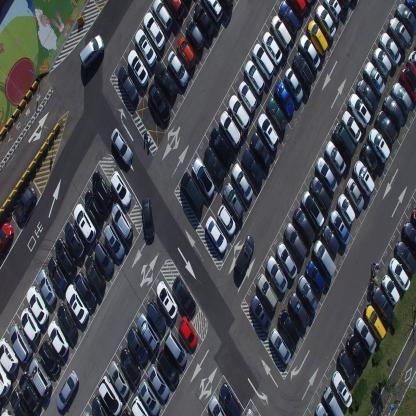car: (98, 374, 123, 415), (332, 121, 357, 162), (56, 368, 79, 412), (172, 274, 196, 316), (191, 156, 215, 198), (65, 282, 89, 324), (18, 370, 42, 412), (29, 356, 52, 399), (147, 82, 171, 123), (9, 322, 33, 363), (284, 221, 308, 262), (300, 189, 324, 230), (312, 239, 337, 278), (233, 235, 256, 277), (73, 202, 96, 244), (26, 284, 49, 326), (180, 170, 204, 210), (116, 64, 139, 105), (137, 311, 160, 352), (134, 27, 157, 68), (154, 61, 177, 102), (79, 33, 104, 70), (209, 127, 231, 169), (222, 182, 245, 222), (54, 236, 77, 276), (56, 302, 79, 342), (143, 11, 166, 51), (13, 184, 36, 224), (251, 42, 275, 80), (348, 92, 372, 130), (231, 163, 253, 204), (250, 294, 272, 335), (74, 270, 96, 311), (298, 33, 321, 72), (364, 303, 387, 342), (219, 110, 241, 150), (242, 148, 264, 188), (276, 240, 298, 280), (205, 214, 227, 254), (91, 169, 113, 209), (103, 221, 125, 261), (292, 50, 314, 90), (266, 255, 288, 295), (269, 327, 292, 365), (164, 328, 187, 366), (110, 203, 133, 241), (147, 364, 170, 402), (157, 348, 180, 386), (227, 94, 250, 132), (292, 207, 315, 245), (356, 77, 379, 115), (37, 339, 61, 375), (388, 16, 412, 52), (127, 47, 149, 86), (156, 280, 178, 319), (64, 221, 86, 260), (127, 325, 149, 364), (257, 111, 279, 150), (297, 274, 319, 313), (315, 156, 338, 193), (306, 18, 327, 58), (250, 132, 272, 170), (278, 308, 300, 346), (110, 170, 132, 208), (47, 256, 69, 294), (47, 319, 69, 357), (203, 144, 225, 182), (192, 2, 214, 40), (138, 378, 160, 416), (256, 272, 278, 310), (310, 175, 332, 213), (372, 286, 394, 324), (354, 316, 376, 354), (108, 359, 129, 398), (288, 292, 310, 329), (110, 127, 132, 164), (270, 14, 292, 51), (368, 127, 390, 164), (379, 31, 401, 68), (244, 58, 265, 96), (274, 79, 295, 117), (283, 66, 304, 104), (315, 3, 336, 41), (376, 110, 398, 146), (389, 256, 411, 292), (346, 334, 368, 370), (85, 254, 105, 293), (167, 49, 188, 86), (120, 346, 141, 383), (329, 208, 350, 245), (325, 139, 346, 176), (37, 268, 57, 306), (338, 349, 358, 387), (332, 370, 352, 408), (266, 96, 287, 132), (261, 31, 283, 65), (93, 240, 114, 275), (278, 0, 299, 35), (354, 160, 375, 195), (391, 81, 412, 116), (220, 382, 242, 415), (364, 61, 386, 94), (84, 189, 104, 225), (20, 306, 40, 342), (305, 258, 325, 294), (384, 94, 404, 130), (341, 110, 362, 144), (0, 337, 19, 374), (396, 1, 416, 36), (396, 239, 416, 274), (146, 298, 166, 332), (176, 35, 196, 69), (178, 314, 198, 348), (372, 46, 392, 80), (346, 176, 364, 213), (323, 386, 345, 416), (361, 141, 379, 177), (216, 204, 236, 236), (399, 66, 415, 106), (152, 0, 173, 30), (185, 17, 204, 50), (381, 273, 400, 306), (10, 387, 32, 415), (238, 81, 257, 113), (337, 193, 355, 226), (140, 196, 154, 238), (322, 223, 340, 255), (0, 221, 14, 258), (201, 0, 223, 22), (323, 0, 342, 25), (403, 219, 415, 257), (163, 0, 185, 19), (285, 0, 307, 19), (0, 362, 11, 398), (131, 394, 148, 416), (208, 395, 226, 415), (91, 396, 109, 415), (406, 48, 416, 77), (315, 400, 329, 416), (218, 0, 234, 9), (410, 204, 416, 226), (338, 0, 353, 8), (0, 408, 12, 416), (244, 407, 255, 415), (120, 408, 130, 415), (83, 410, 93, 416)
